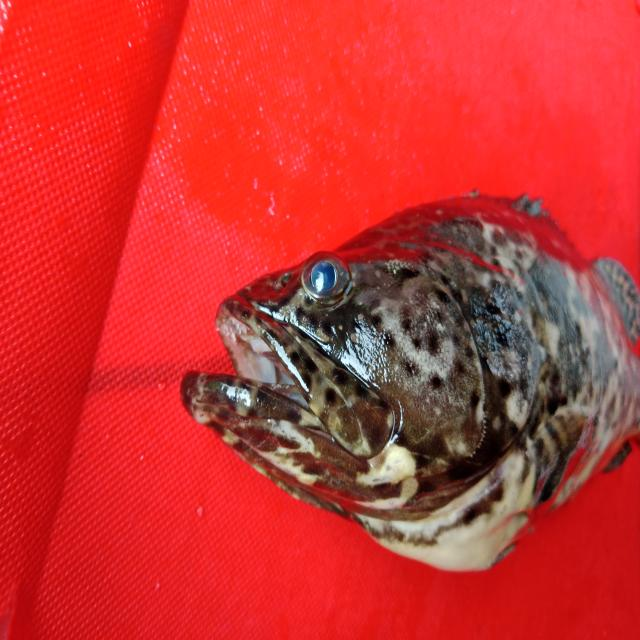ikan: (164, 138, 634, 591)
